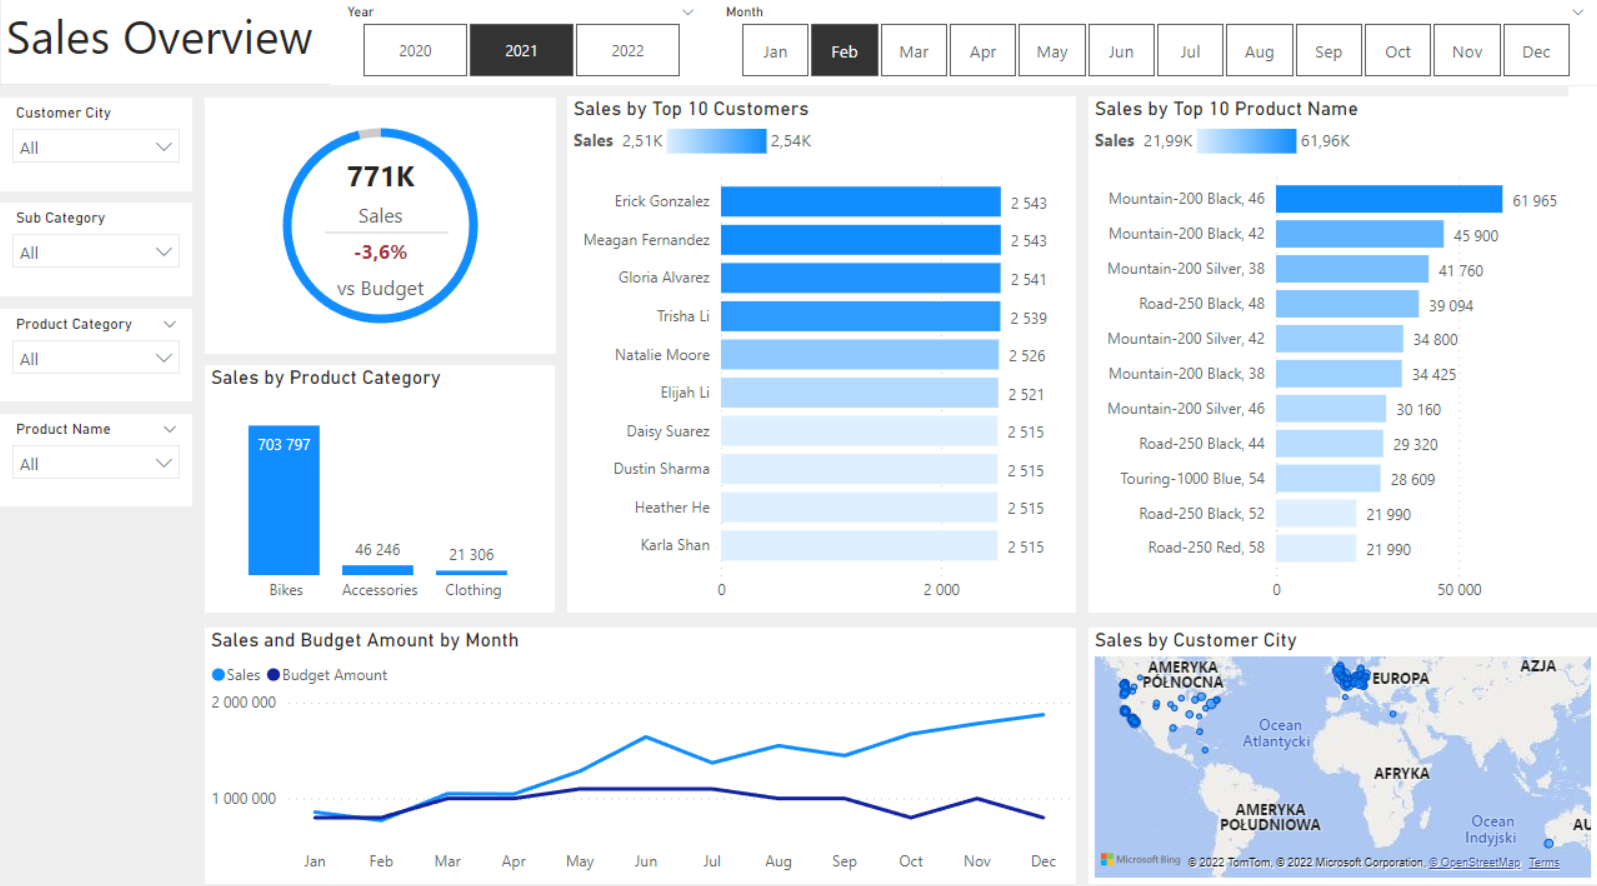

Layout of this report page (visuals, bound fields, positions):
{"tool":"powerbi","page":{"name":"Sales Overview","canvas":[1280,720],"ordinal":0},"visuals":[{"type":"textbox","box":[0,0,1280,70.3],"z":0},{"type":"slicer","fields":{"Values":["DIM_Customer.Customer City"]},"box":[0,80.2,153.6,74.3],"z":1000},{"type":"slicer","fields":{"Values":["DIM_Products.Sub Category"]},"box":[0,164.5,153.6,74.3],"z":2000},{"type":"slicer","fields":{"Values":["DIM_Products.Product Category"]},"box":[0,248.7,153.6,74.3],"z":3000},{"type":"slicer","fields":{"Values":["DIM_Products.Product Name"]},"box":[0,332.9,153.6,74.3],"z":4000},{"type":"slicer","fields":{"Values":["DIM_Calendar.Year"]},"box":[264.5,0,303.6,70.1],"z":5000},{"type":"slicer","fields":{"Values":["DIM_Calendar.MonthShort"]},"box":[568.1,0,711.9,70.1],"z":6000},{"type":"donutChart","fields":{"Y":["Measures (2).Sales","Measures (2).Sales to Budget"]},"box":[163.9,79.9,280.6,204.9],"z":7000},{"type":"card","fields":{"Values":["Measures (2).Sales"]},"box":[213.3,118.8,182.9,70.4],"z":8000},{"type":"card","fields":{"Values":["Measures (2).% Budget Sales"]},"box":[213,181.9,182.9,67.3],"z":9000},{"type":"shape","box":[259.6,141.9,99.8,92.5],"z":10000},{"type":"columnChart","fields":{"Category":["DIM_Products.Product Category"],"Y":["Measures (2).Sales"]},"box":[163.8,294.4,280.3,197.9],"z":11000},{"type":"lineChart","fields":{"Y":["Measures (2).Sales","Measures (2).Budget Amount"],"Category":["DIM_Calendar.MonthShort"]},"box":[163.8,504.4,697.3,205],"z":12000},{"type":"barChart","title":"Sales by Top 10 Customers","fields":{"Category":["DIM_Customer.Full Name"],"Y":["Measures (2).Sales"]},"box":[454.1,79.4,406.9,412.9],"z":13000},{"type":"barChart","title":"Sales by Top 10 Product Name","fields":{"Category":["DIM_Products.Product Name"],"Y":["Measures (2).Sales"]},"box":[871.1,79.4,406.9,412.9],"z":14000},{"type":"map","fields":{"Category":["DIM_Customer.Customer City"],"Size":["Measures (2).Sales"]},"box":[871.1,504.4,406.9,205],"z":15000}]}

Visuals, with their boxes in screenshot pixels (x1, y1, x2, y2), scaled from the page's 1280x720 canvas onto the 1597x886 screenshot:
textbox: 0/0/1596/87
slicer - DIM_Customer.Customer City: 0/99/192/190
slicer - DIM_Products.Sub Category: 0/202/192/294
slicer - DIM_Products.Product Category: 0/306/192/397
slicer - DIM_Products.Product Name: 0/410/192/501
slicer - DIM_Calendar.Year: 330/0/709/86
slicer - DIM_Calendar.MonthShort: 709/0/1596/86
donutChart - Measures (2).Sales x Measures (2).Sales to Budget: 204/98/555/350
card - Measures (2).Sales: 266/146/494/233
card - Measures (2).% Budget Sales: 266/224/494/307
shape: 324/175/448/288
columnChart - DIM_Products.Product Category x Measures (2).Sales: 204/362/554/606
lineChart - Measures (2).Sales x Measures (2).Budget Amount: 204/621/1074/873
"Sales by Top 10 Customers" barChart: 567/98/1074/606
"Sales by Top 10 Product Name" barChart: 1087/98/1595/606
map - DIM_Customer.Customer City x Measures (2).Sales: 1087/621/1595/873
